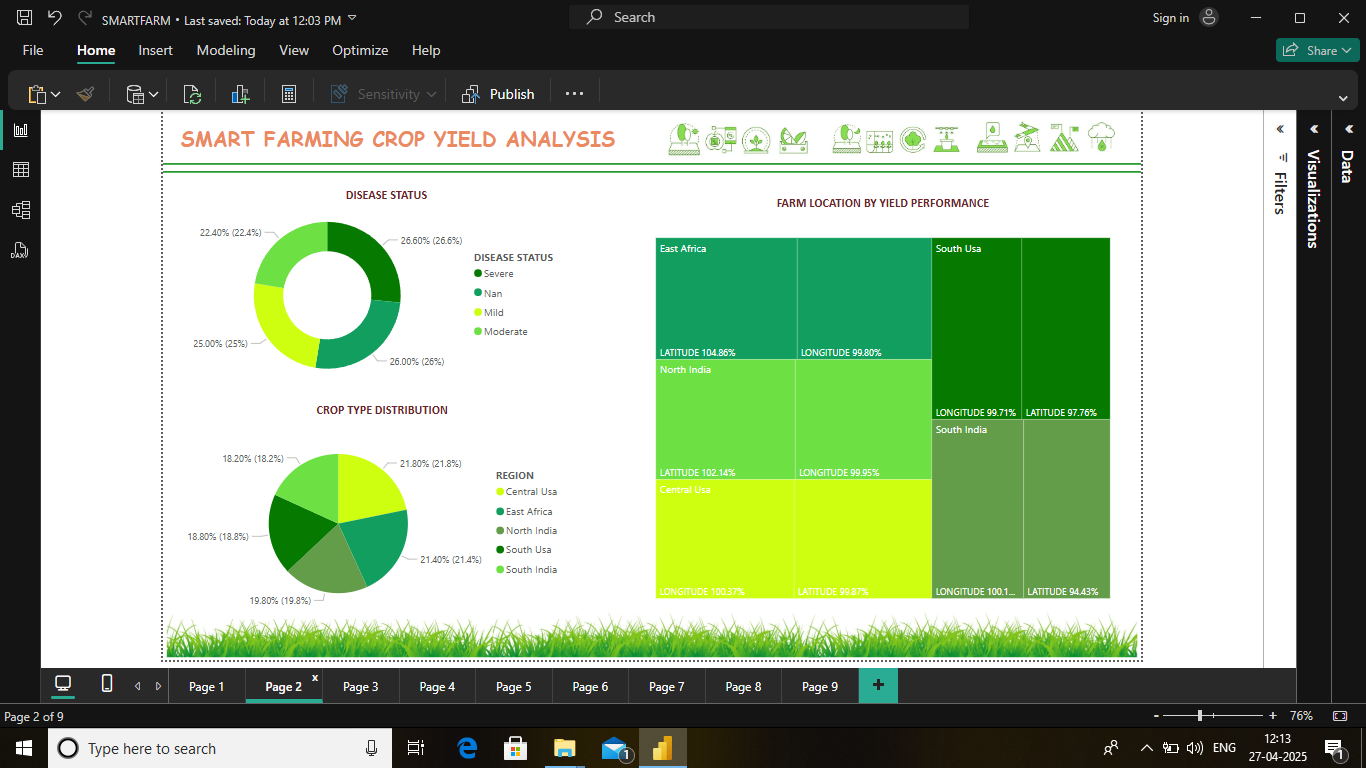

The dashboard page shown, as its layout file describes it:
{"tool":"powerbi","page":{"name":"Page 2","canvas":[1280,720],"ordinal":1},"visuals":[{"type":"textbox","box":[18.5,13.4,596.3,55.4],"z":0},{"type":"image","box":[0,645,440.1,75.6],"z":1000},{"type":"image","box":[426.7,645,440.1,75.6],"z":2000},{"type":"image","box":[839.9,645,440.1,75.6],"z":3000},{"type":"shape","box":[0,55.4,1280,52.1],"z":4000},{"type":"shape","box":[0,23.4,1280,94.1],"z":5000},{"type":"donutChart","fields":{"Y":["CountNonNull(Smart_Farming_Crop_Yield_2024_CLEANED.region)"],"Category":["Smart_Farming_Crop_Yield_2024_CLEANED.crop_disease_status"]},"box":[18.5,107.5,512.3,270.4],"z":6000},{"type":"textbox","box":[18.5,87.3,537.5,40.3],"z":7000},{"type":"pieChart","fields":{"Y":["CountNonNull(Smart_Farming_Crop_Yield_2024_CLEANED.crop_type)"],"Category":["Smart_Farming_Crop_Yield_2024_CLEANED.region"]},"box":[18.5,416.6,512.3,250.3],"z":8000},{"type":"textbox","box":[18.5,378,537.5,38.6],"z":9000},{"type":"treemap","fields":{"Group":["Smart_Farming_Crop_Yield_2024_CLEANED.region"],"Values":["Avg(Smart_Farming_Crop_Yield_2024_CLEANED.latitude)","Avg(Smart_Farming_Crop_Yield_2024_CLEANED.longitude)"]},"box":[640,162.9,604.7,482.1],"z":10000},{"type":"textbox","box":[28.6,97.4,527.5,40.3],"z":11000},{"type":"textbox","box":[640,107.5,604.7,40.3],"z":12000},{"type":"image","box":[627.4,10.3,251.3,55.8],"z":12001},{"type":"image","box":[866.9,4.4,180.7,64.7],"z":12002},{"type":"image","box":[1059.4,4.4,192.5,64.7],"z":12003}]}

Visuals, with their boxes on the page's 1280x720 design canvas (x1, y1, x2, y2). These are canvas units, not pixel positions in the 1366x768 screenshot, which may show the page scaled, cropped or inside an application window:
textbox: 18:13:615:69
image: 0:645:440:721
image: 427:645:867:721
image: 840:645:1280:721
shape: 0:55:1280:108
shape: 0:23:1280:118
donutChart - CountNonNull(Smart_Farming_Crop_Yield_2024_CLEANED.region) x Smart_Farming_Crop_Yield_2024_CLEANED.crop_disease_status: 18:108:531:378
textbox: 18:87:556:128
pieChart - CountNonNull(Smart_Farming_Crop_Yield_2024_CLEANED.crop_type) x Smart_Farming_Crop_Yield_2024_CLEANED.region: 18:417:531:667
textbox: 18:378:556:417
treemap - Smart_Farming_Crop_Yield_2024_CLEANED.region x Avg(Smart_Farming_Crop_Yield_2024_CLEANED.latitude): 640:163:1245:645
textbox: 29:97:556:138
textbox: 640:108:1245:148
image: 627:10:879:66
image: 867:4:1048:69
image: 1059:4:1252:69
